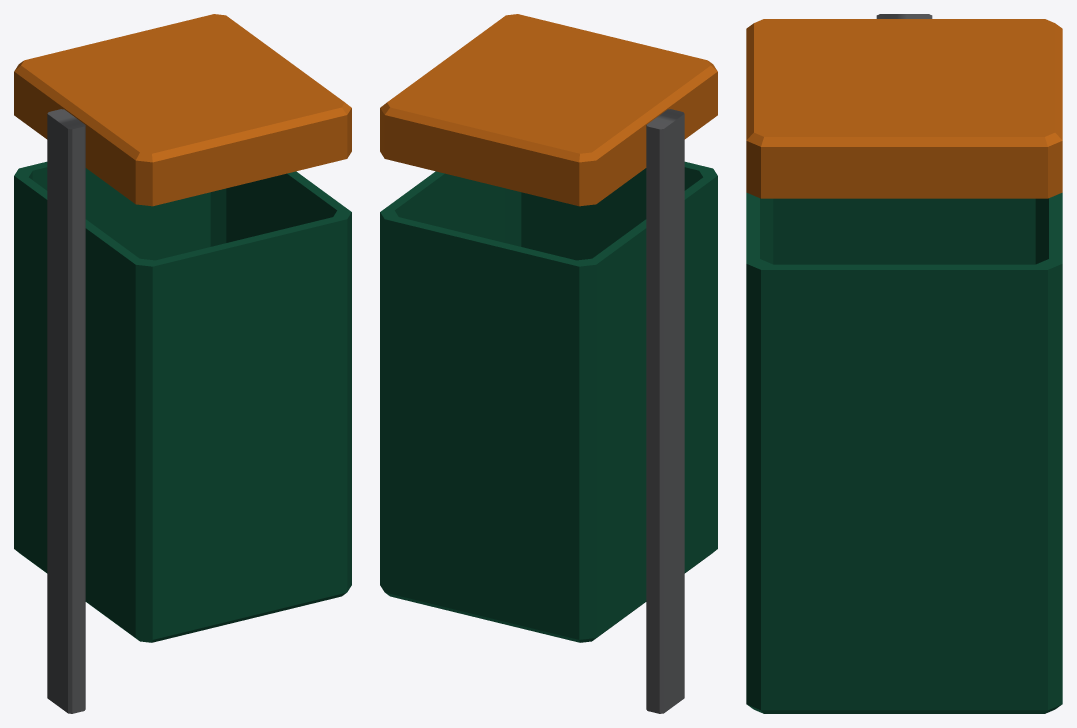
File: trashcannot.mb.fbx
3 views of the same model, side by side, from view 1: azimuth 30°, elevation 25°; view 2: azimuth 150°, elevation 25°; view 3: azimuth 270°, elevation 25° (orthographic). The views are drawn at different scales.
Visible parts, largest first — view 1: trashcan; view 2: trashcan; view 3: trashcan.
Boxes of the visible parts, x1=… form: trashcan: x1=14, y1=14, x2=351, y2=713; trashcan: x1=380, y1=14, x2=717, y2=713; trashcan: x1=746, y1=14, x2=1062, y2=713.
Bounding box in the file's own units: 45.47 × 110 × 45.27.
